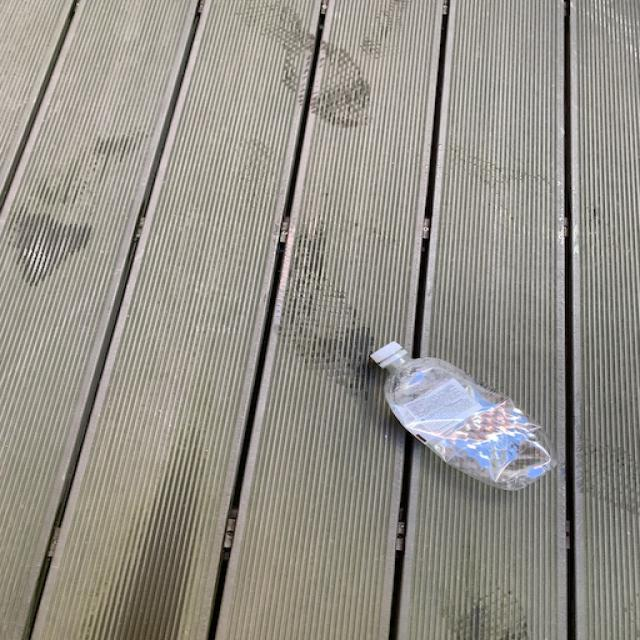litter: (366, 337, 565, 497)
